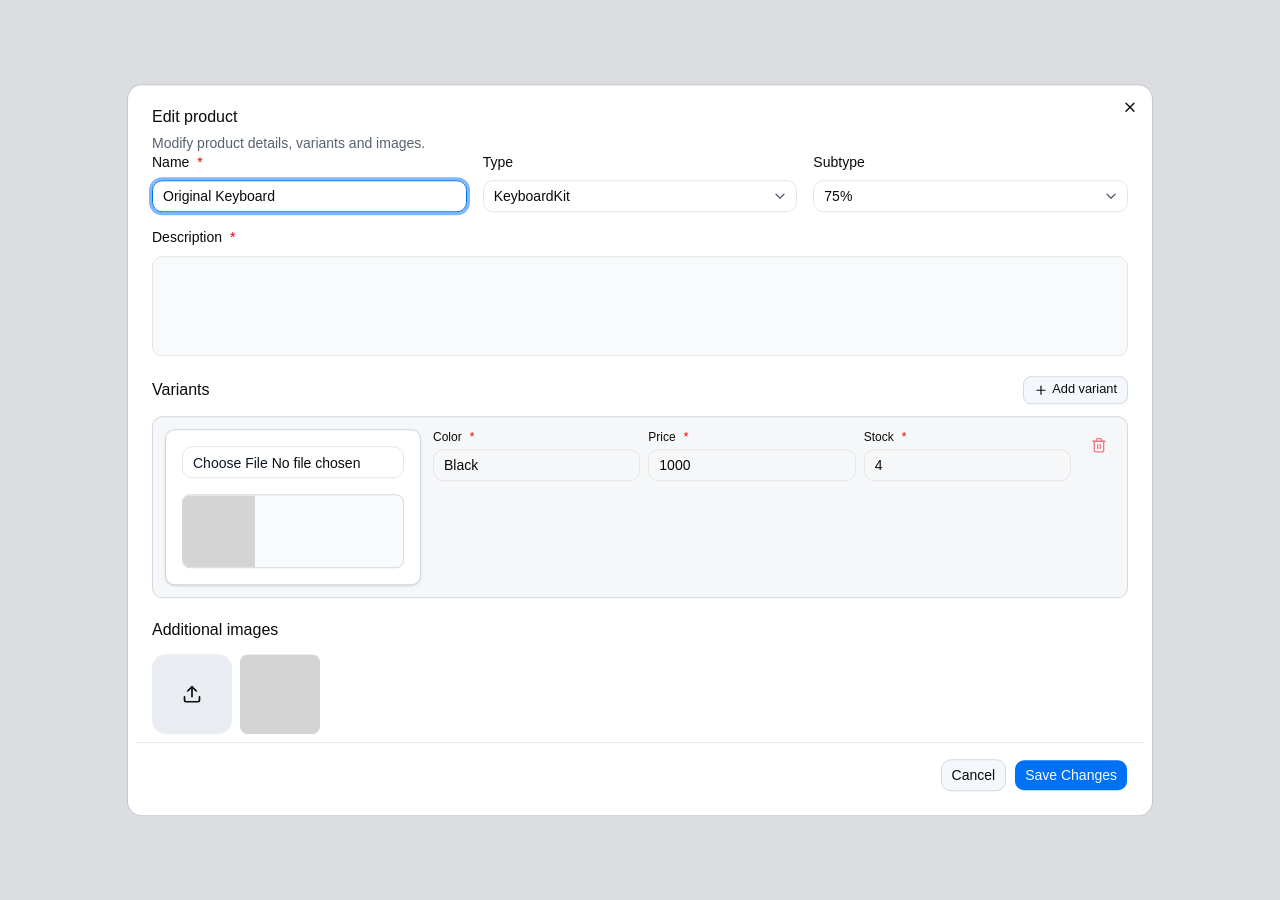
Test: EditProductFormDialog › updates subtype options when the product type changes
Click the dropdown labelled "KeyboardKit ▼": [532, 196] box [483,180,797,212]
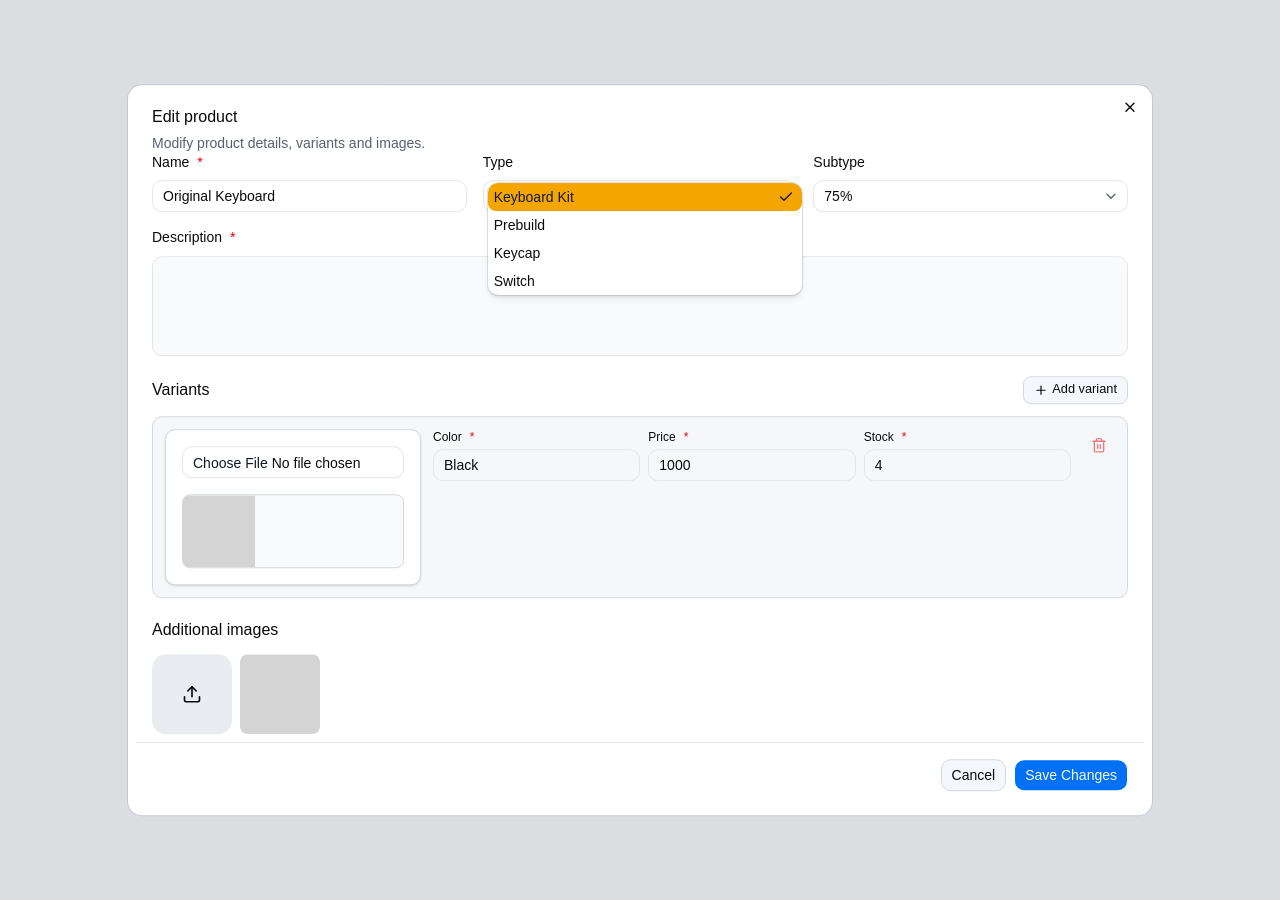
Click the option "Keycap": [517, 252] box [494,244,540,260]
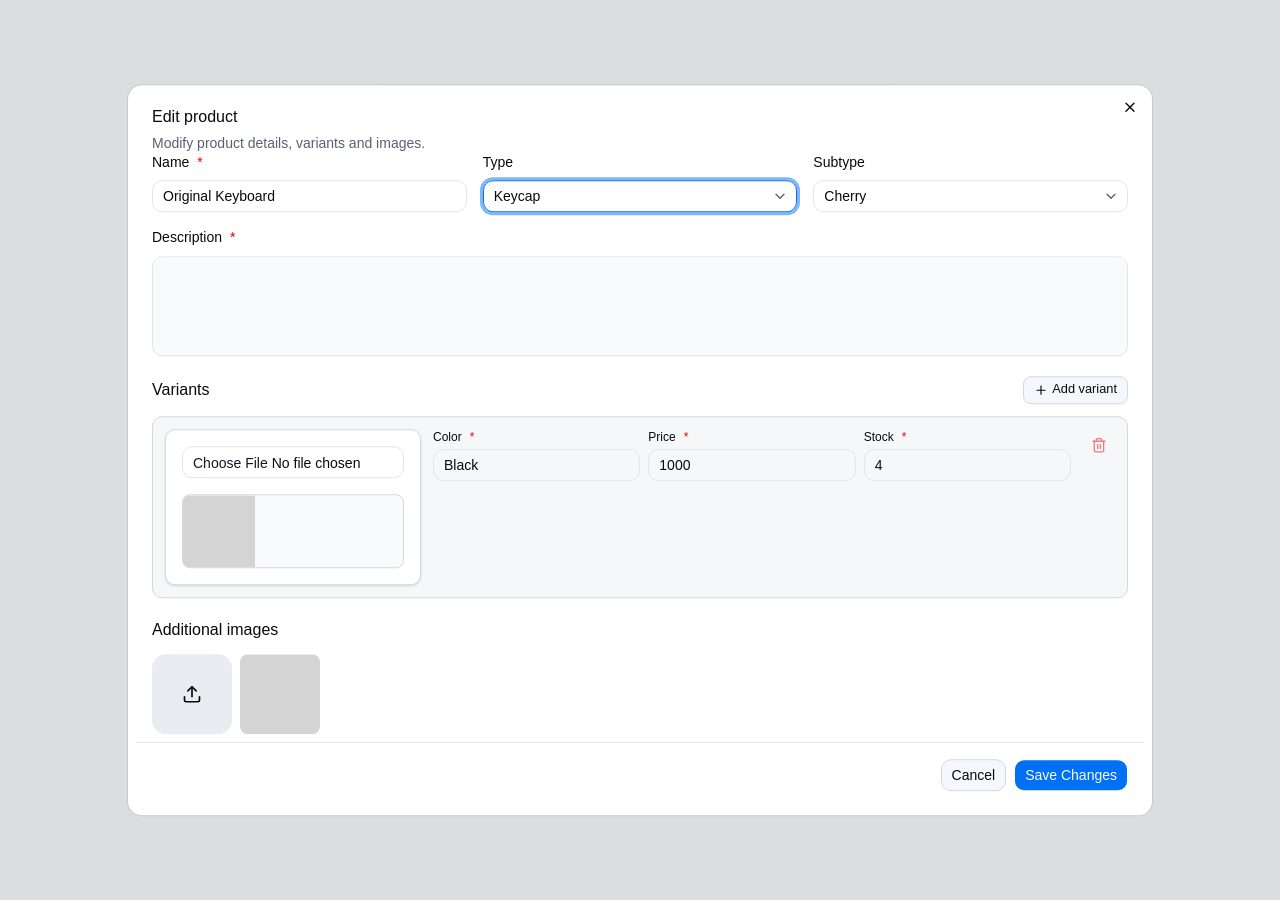
Check: the dropdown labelled "Keycap ▼" is shown, box [483,180,797,212]
Check: the dropdown labelled "Cherry ▼" is shown
Click the dropdown labelled "Cherry ▼": [845, 196] box [813,180,1128,212]
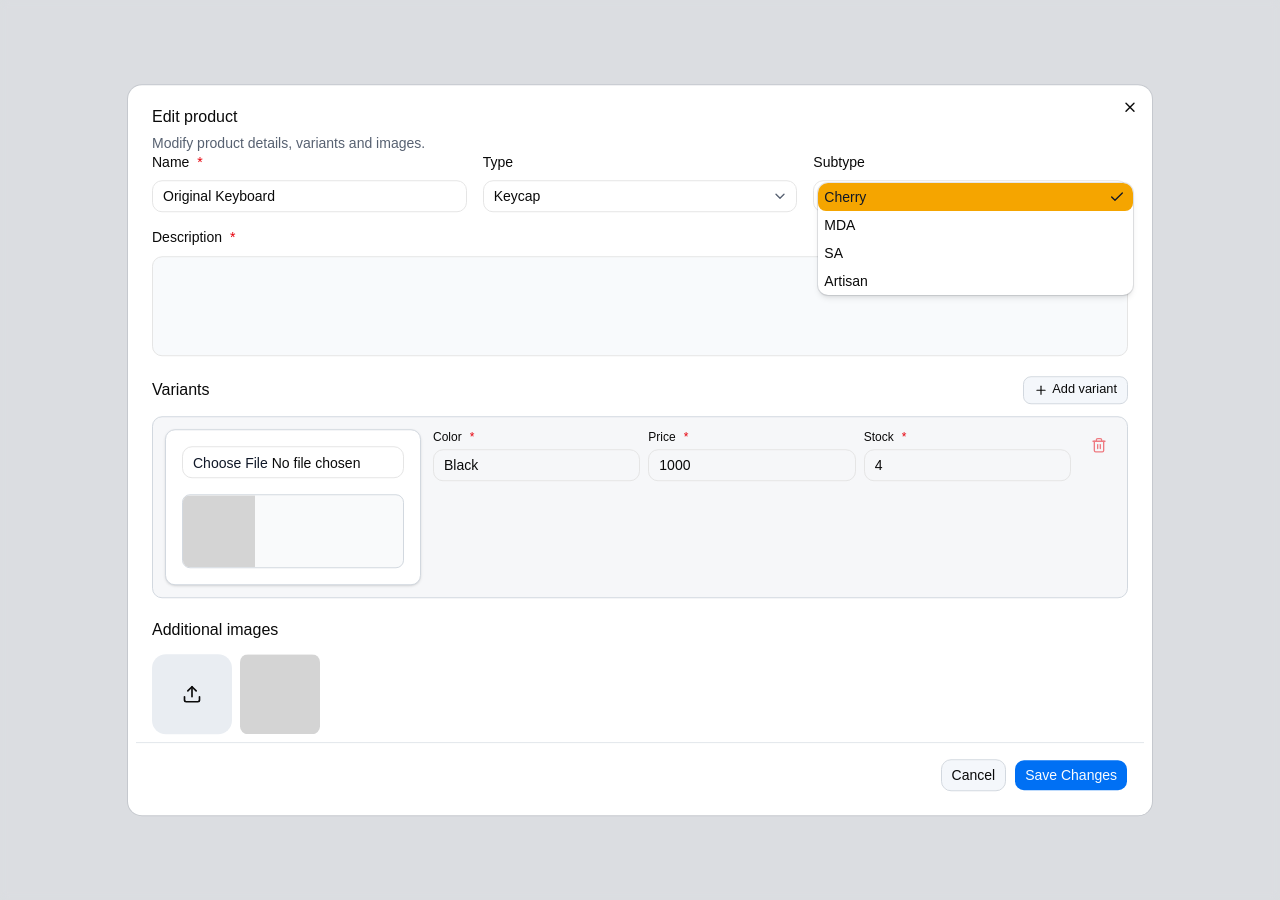
Click the option "SA": [834, 252] box [824,244,843,260]
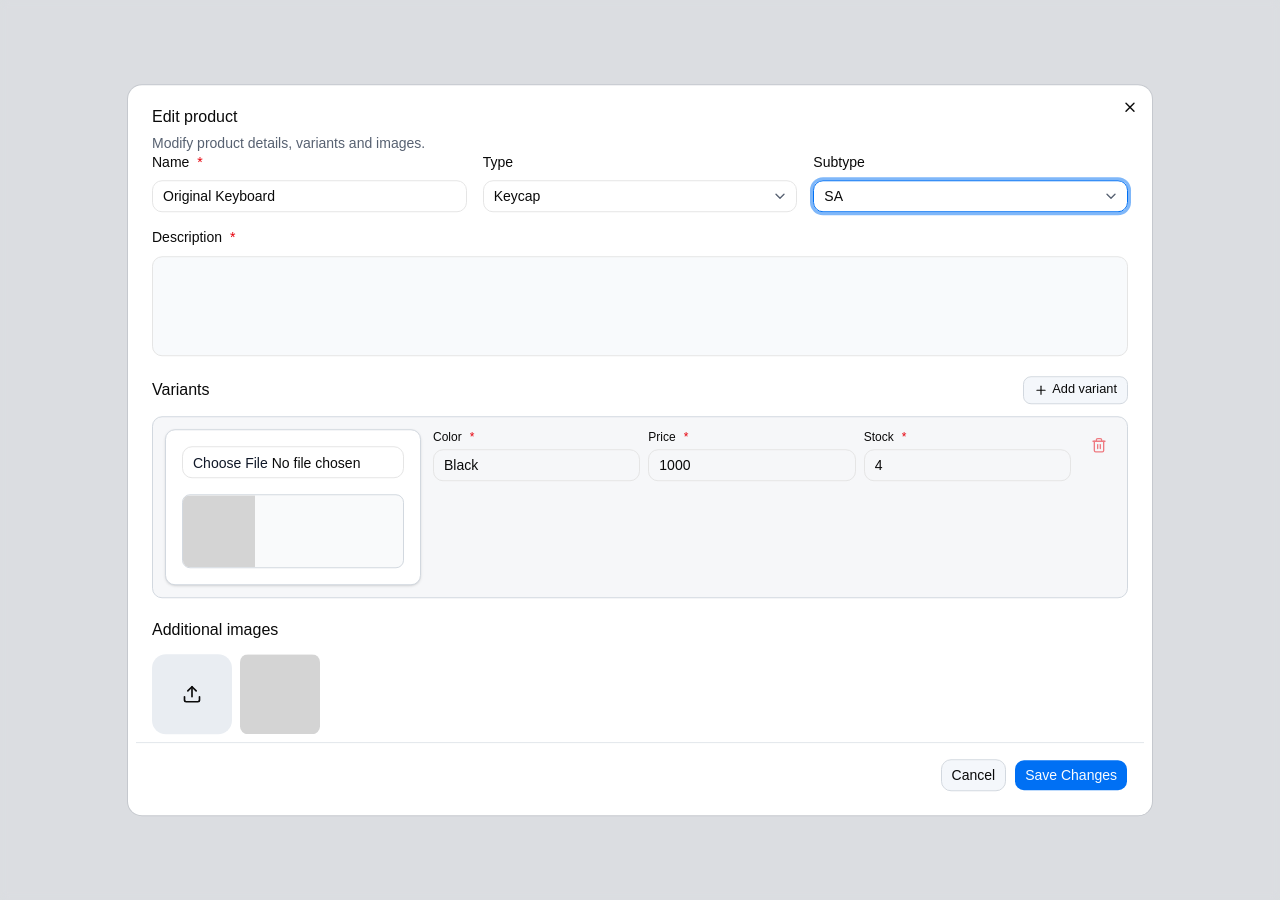
Check: the dropdown labelled "SA ▼" is shown, box [813,180,1128,212]
